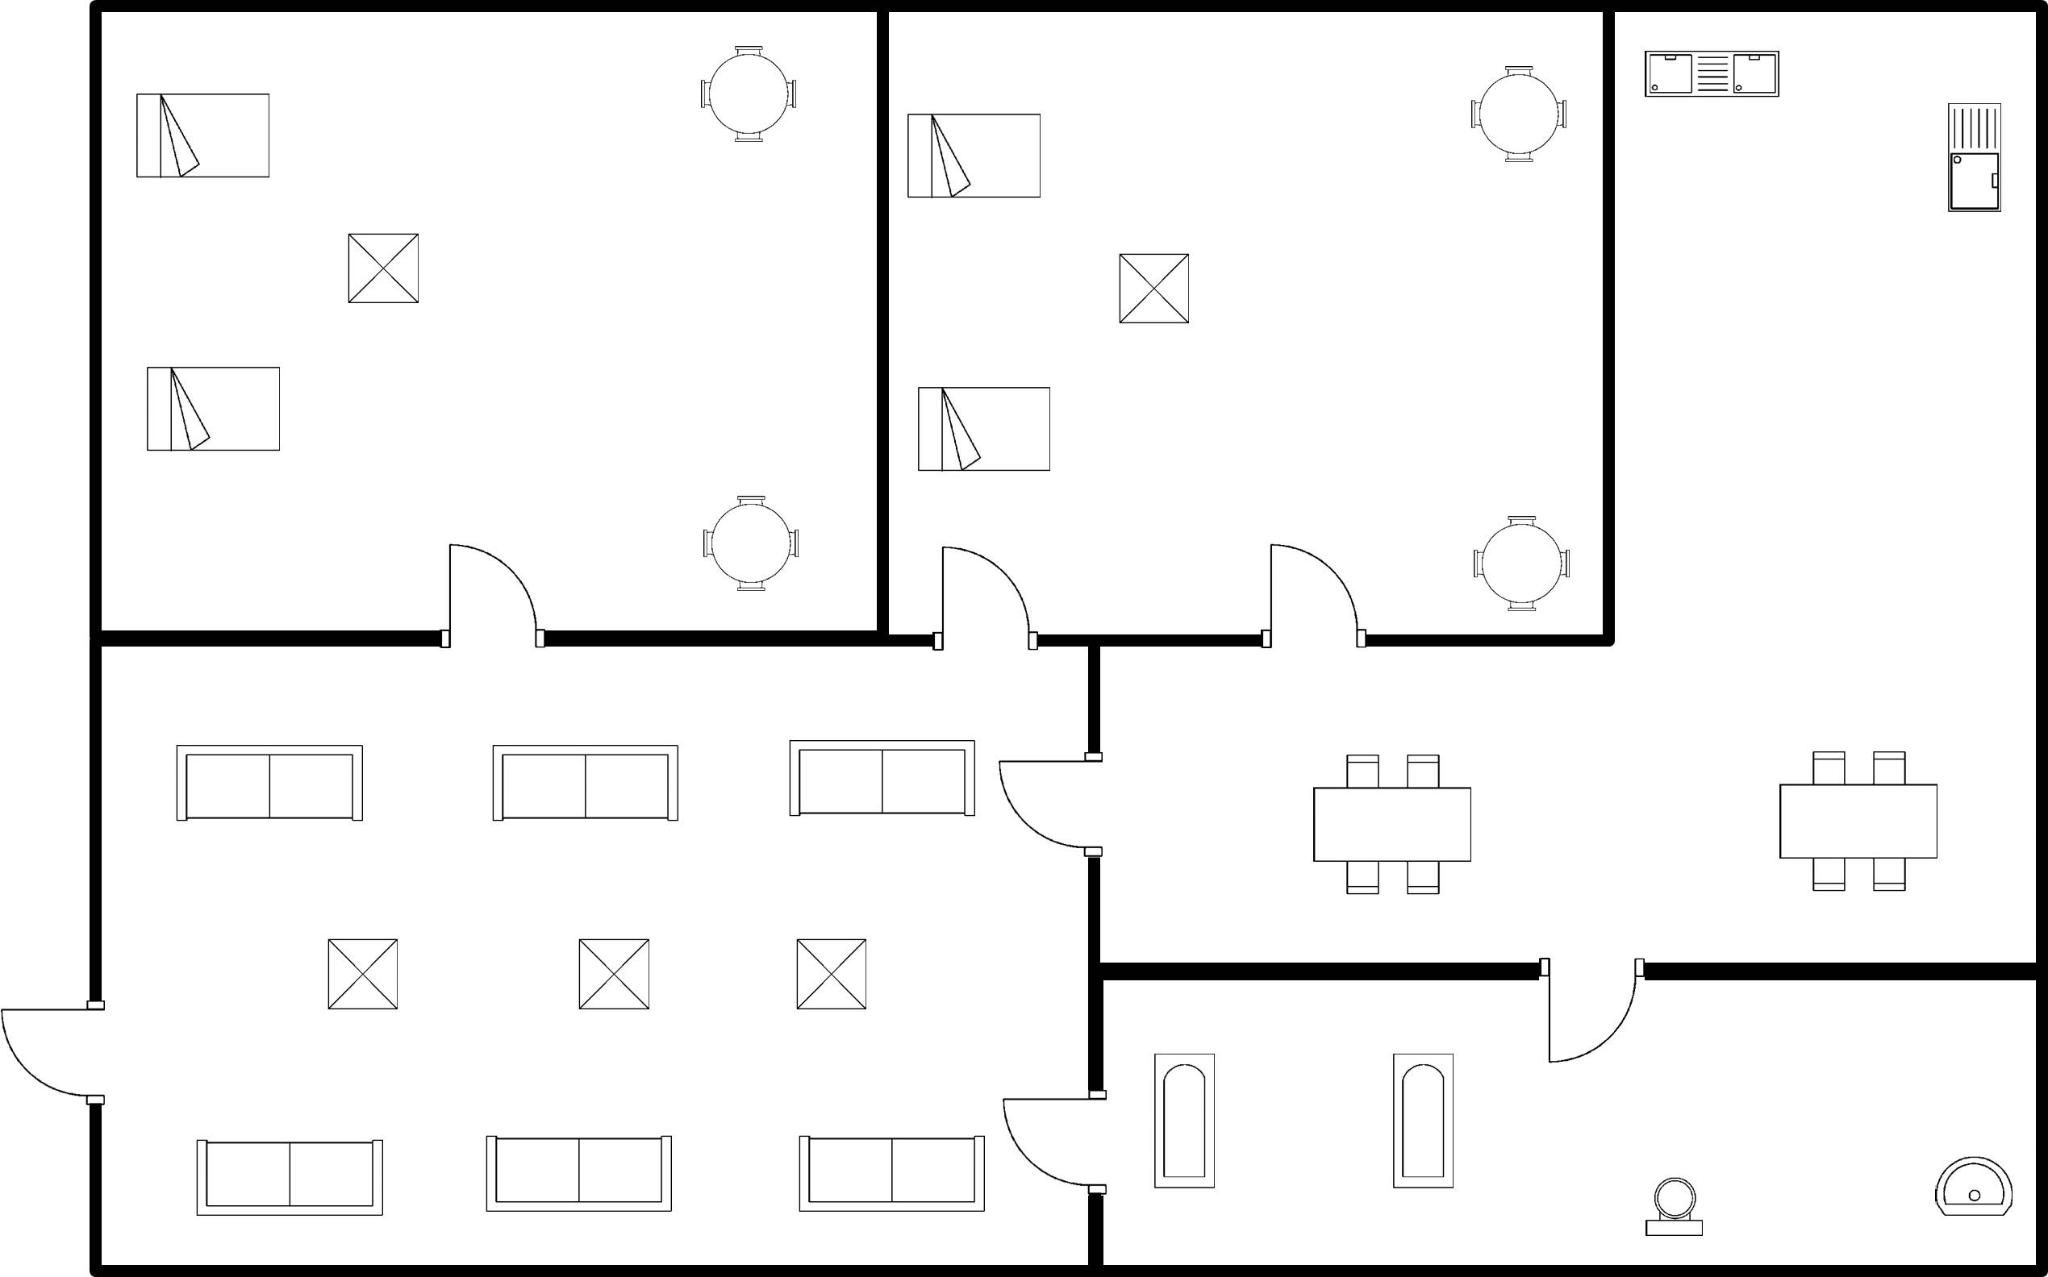sink: (1629, 41, 1791, 112)
